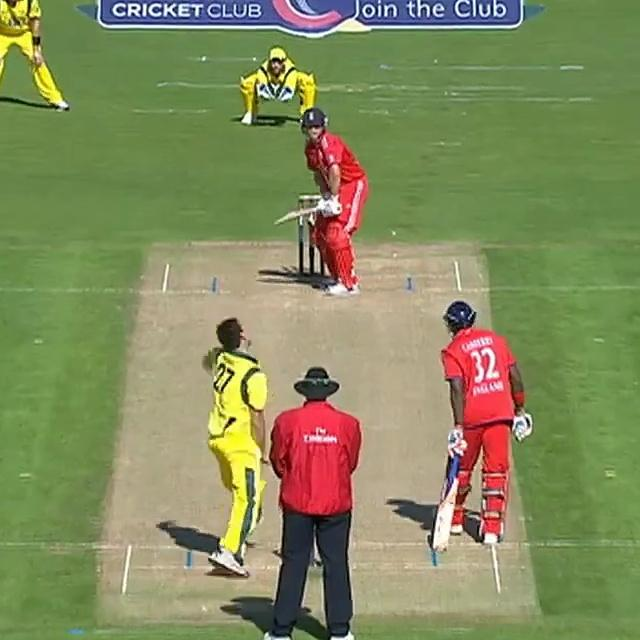umpire: (253, 359, 376, 640)
